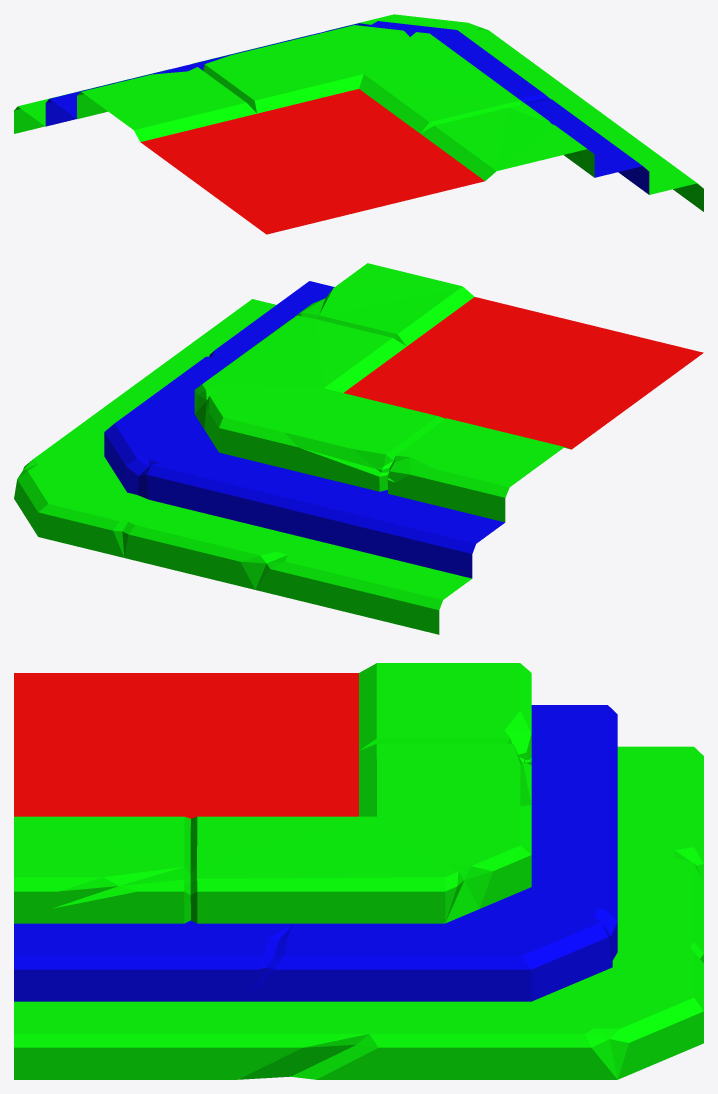
Rendered from dungeon_stairs_corner.fbx.
The picture shows the model from 3 angles, top to bottom: view 1: azimuth 30°, elevation 25°; view 2: azimuth 150°, elevation 25°; view 3: azimuth 270°, elevation 25°; orthographic projection. The views are drawn at different scales.
Parts seen in each view (by area): view 1: dungeon_stairs_corner; view 2: dungeon_stairs_corner; view 3: dungeon_stairs_corner.
Part boxes in pixels (x1=…): dungeon_stairs_corner: x1=14, y1=14, x2=703, y2=234; dungeon_stairs_corner: x1=14, y1=263, x2=703, y2=634; dungeon_stairs_corner: x1=14, y1=663, x2=703, y2=1079.
Bounding box in the file's own units: 150 × 150 × 30.
